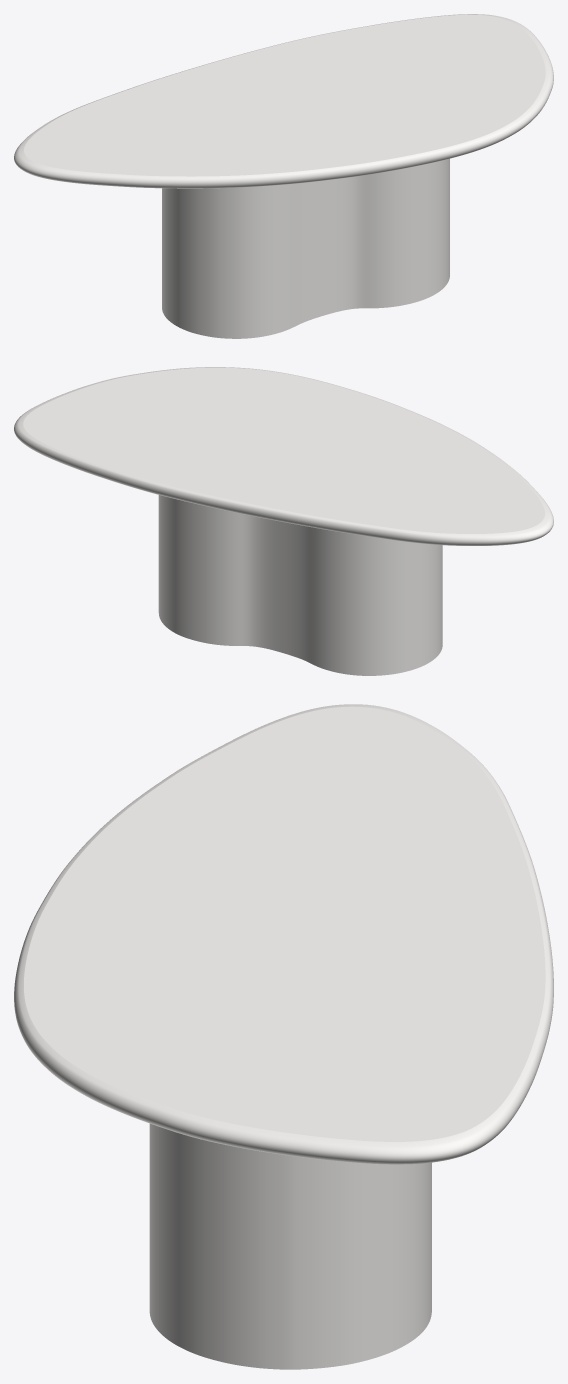
File: purewhite_pebbletop_round_riverwave.glb
3 renders of one model, top to bottom at view 1: azimuth 30°, elevation 25°; view 2: azimuth 150°, elevation 25°; view 3: azimuth 270°, elevation 25°, orthographic. The views are drawn at different scales.
Parts seen in each view (by area): view 1: round_pebbletop, riverwave; view 2: round_pebbletop, riverwave; view 3: round_pebbletop, riverwave.
Part boxes in pixels (x1,y1,x2,y2): round_pebbletop: (14,14,553,188); riverwave: (162,158,449,338); round_pebbletop: (14,367,553,545); riverwave: (158,495,442,675); round_pebbletop: (14,704,553,1164); riverwave: (149,1123,431,1369).
Size of the model in its own units: 7.5 by 2.51 by 3.8.
Materials: 1 (1 with a texture image).
